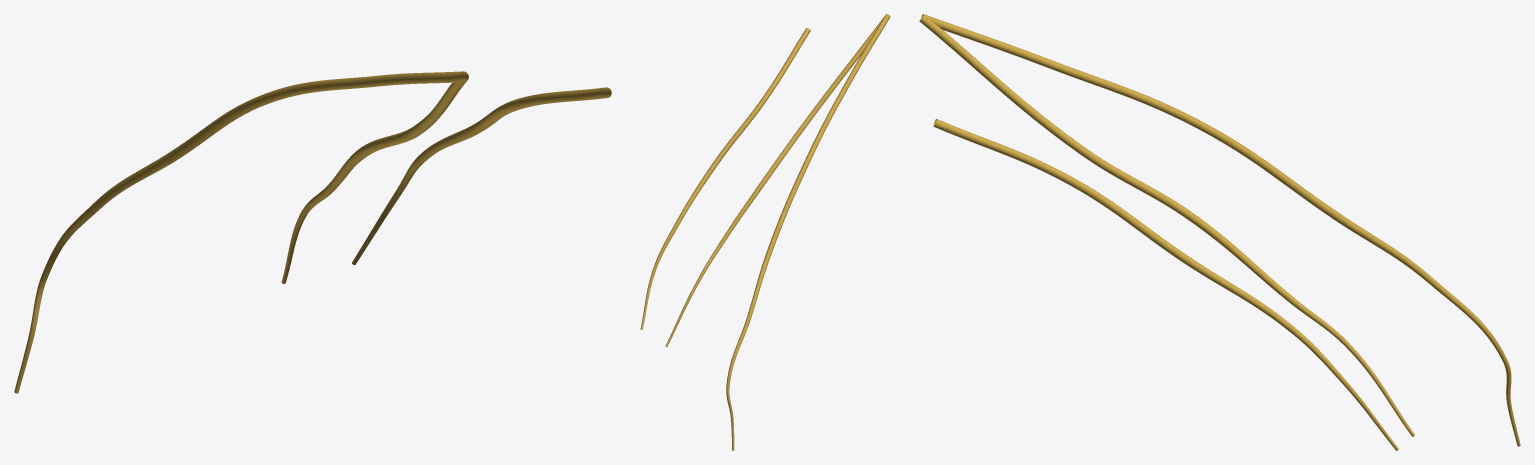
The picture shows the model from 3 angles, left to right: view 1: azimuth 30°, elevation 25°; view 2: azimuth 150°, elevation 25°; view 3: azimuth 270°, elevation 25°; orthographic projection. The views are drawn at different scales.
Parts seen in each view (by area): view 1: 右侧尺神经指背神经; view 2: 右侧尺神经指背神经; view 3: 右侧尺神经指背神经.
Part boxes in pixels (x1,y1,x2,y2): 右侧尺神经指背神经: [14, 71, 611, 393]; 右侧尺神经指背神经: [640, 14, 890, 450]; 右侧尺神经指背神经: [919, 14, 1520, 450].
Size of the model in its own units: 0.043 by 0.0871 by 0.1037.
